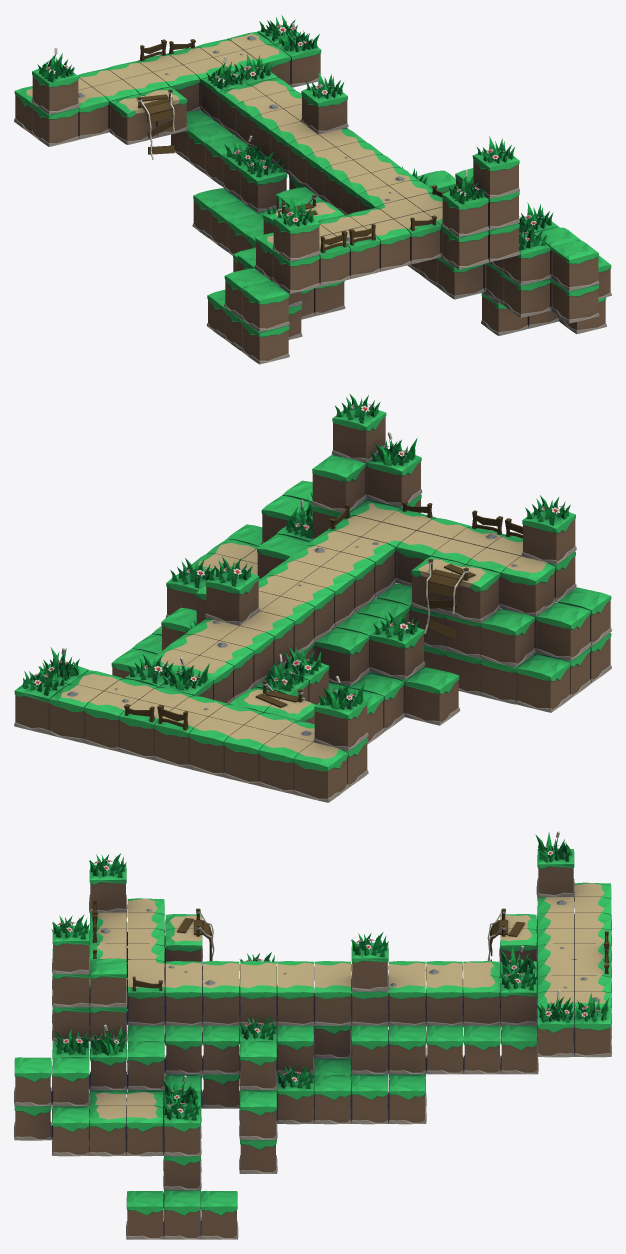
The model's file is Crime_Map_01.FBX.
3 views of the same model, one above another, from view 1: azimuth 30°, elevation 25°; view 2: azimuth 150°, elevation 25°; view 3: azimuth 270°, elevation 25° (orthographic). The views are drawn at different scales.
Visible parts, largest first — view 1: Wall_01, Plant_01, Ground_01, Wall_Ground_01, Plant_02, Wood_01, Line_01; view 2: Wall_01, Plant_01, Ground_01, Plant_02, Wall_Ground_01, Wood_01, Line_01, Stone_01; view 3: Wall_01, Plant_01, Ground_01, Wall_Ground_01, Plant_02, Wood_01, Line_01.
Part boxes in pixels (<box>): Wall_01: <box>15,53,610,360</box>; Plant_01: <box>14,25,611,336</box>; Ground_01: <box>26,33,537,250</box>; Wall_Ground_01: <box>14,78,611,364</box>; Plant_02: <box>37,15,553,249</box>; Wood_01: <box>136,39,448,252</box>; Line_01: <box>46,23,543,240</box>; Wall_01: <box>15,417,610,798</box>; Plant_01: <box>14,404,611,771</box>; Ground_01: <box>61,503,546,759</box>; Plant_02: <box>22,394,570,709</box>; Wall_Ground_01: <box>14,445,611,802</box>; Wood_01: <box>124,500,522,730</box>; Line_01: <box>33,404,565,700</box>; Stone_01: <box>34,404,563,735</box>; Wall_01: <box>15,867,610,1237</box>; Plant_01: <box>14,848,611,1215</box>; Ground_01: <box>95,883,605,1122</box>; Wall_Ground_01: <box>14,878,611,1239</box>; Plant_02: <box>51,832,608,1120</box>; Wood_01: <box>92,899,609,991</box>; Line_01: <box>57,831,600,1113</box>.
Bounding box in the file's own units: 37.71 × 23.52 × 50.2.
